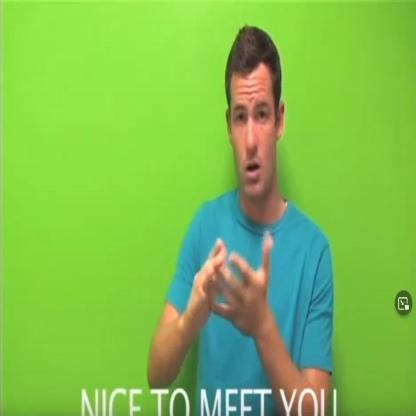NiceToMeetYou: (178, 235, 284, 351)
